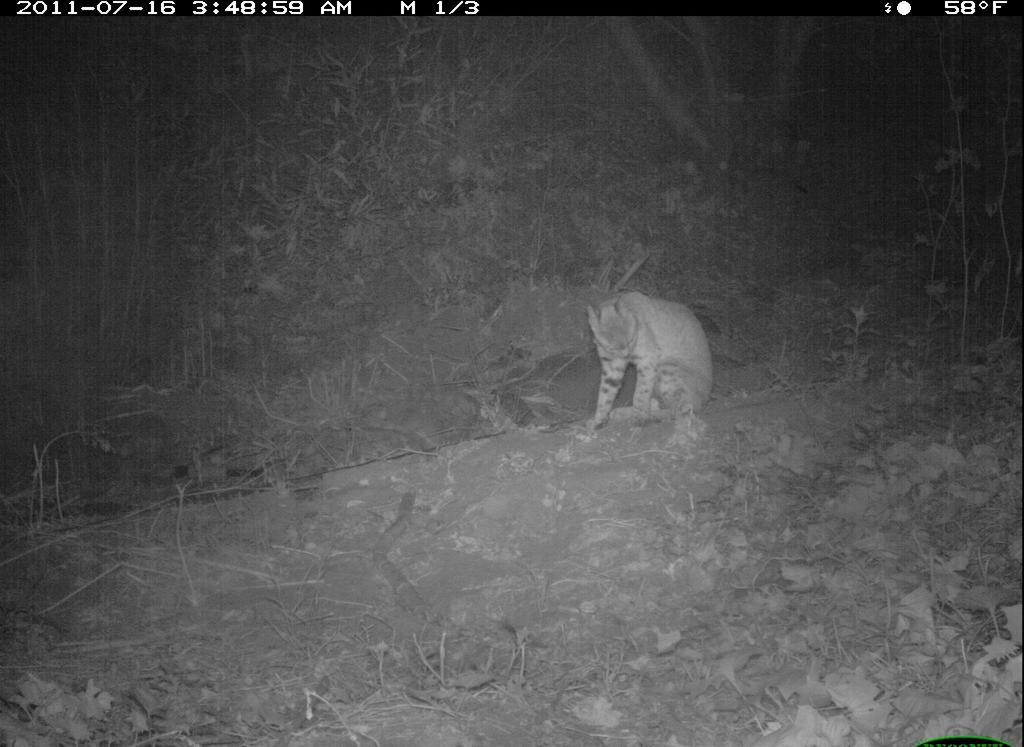bobcat: (580, 283, 726, 442)
